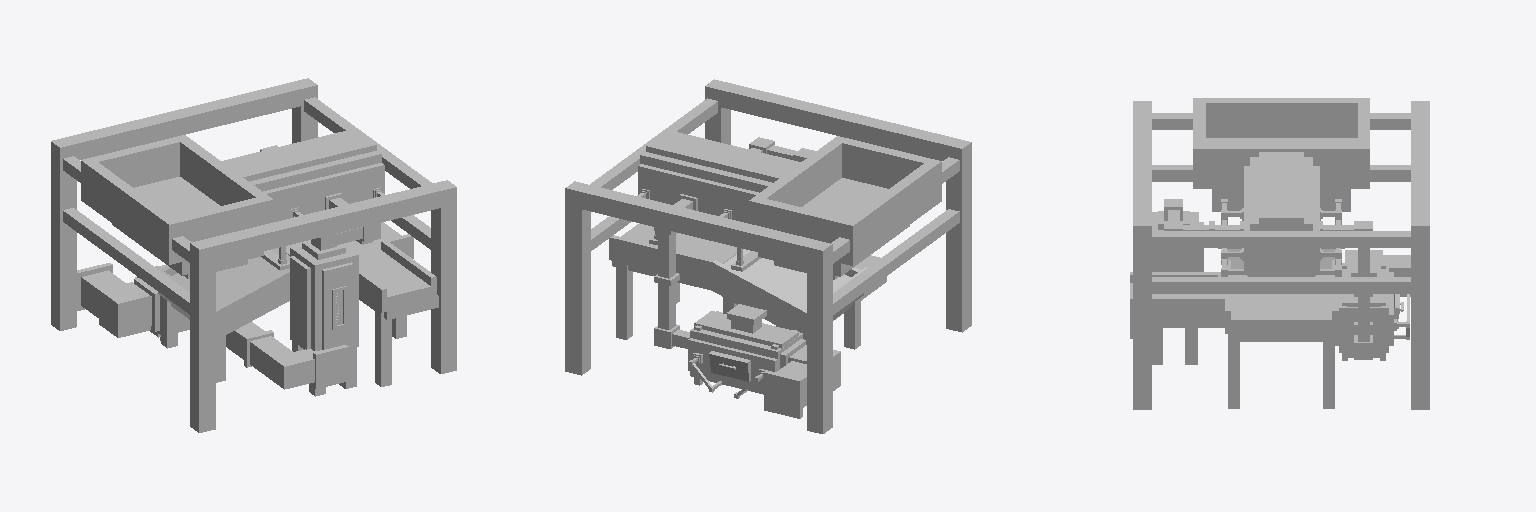
Rendered from ore_washer.obj.
3 views of the same model, side by side, from view 1: azimuth 30°, elevation 25°; view 2: azimuth 150°, elevation 25°; view 3: azimuth 270°, elevation 25° (orthographic).
Visible parts, largest first — view 1: pillar10, pillar17, pillar1, pillar2, pillar4, hooper5, tank3, tank2, hooper4, pipe1, conveyorBelt3, pillar7 (+20 smaller); view 2: pillar17, pillar10, pillar4, pillar3, pillar1, hooper5, tank3, tank2, hooper4, pillar7, hooper2, fence2 (+18 smaller); view 3: hooper5, hooper4, conveyorBelt1, pillar5, pillar6, pillar2, pillar3, tank1, tank3, pillar10, pillar17, fence7 (+14 smaller).
Boxes of the visible parts, x1,y1,x2,y2 form: pillar10: [207, 184, 440, 262]; pillar17: [68, 82, 300, 159]; pillar1: [190, 239, 215, 432]; pillar2: [431, 180, 456, 373]; pillar4: [51, 137, 76, 330]; hooper5: [81, 157, 179, 258]; tank3: [222, 129, 376, 181]; tank2: [263, 163, 384, 221]; hooper4: [174, 135, 272, 224]; pipe1: [226, 322, 320, 389]; conveyorBelt3: [359, 250, 430, 319]; pillar7: [63, 208, 189, 314]; pillar17: [582, 185, 814, 263]; pillar10: [721, 83, 954, 160]; pillar4: [807, 240, 832, 433]; pillar3: [565, 181, 590, 375]; pillar1: [946, 138, 971, 332]; hooper5: [842, 159, 941, 259]; tank3: [646, 130, 800, 182]; tank2: [638, 164, 758, 223]; hooper4: [749, 136, 848, 225]; pillar7: [833, 209, 959, 314]; hooper2: [842, 139, 929, 188]; fence2: [707, 260, 806, 332]; hooper5: [1193, 98, 1369, 137]; hooper4: [1193, 143, 1369, 182]; conveyorBelt1: [1231, 294, 1331, 341]; pillar5: [1152, 277, 1410, 293]; pillar6: [1152, 231, 1410, 247]; pillar2: [1133, 218, 1151, 409]; pillar3: [1411, 218, 1429, 409]; tank1: [1250, 157, 1312, 276]; tank3: [1259, 152, 1303, 223]; pillar10: [1133, 109, 1151, 217]; pillar17: [1411, 109, 1429, 217]; fence7: [1130, 296, 1224, 321].
Bounding box in the file's own units: 2.97 × 2.06 × 2.97.